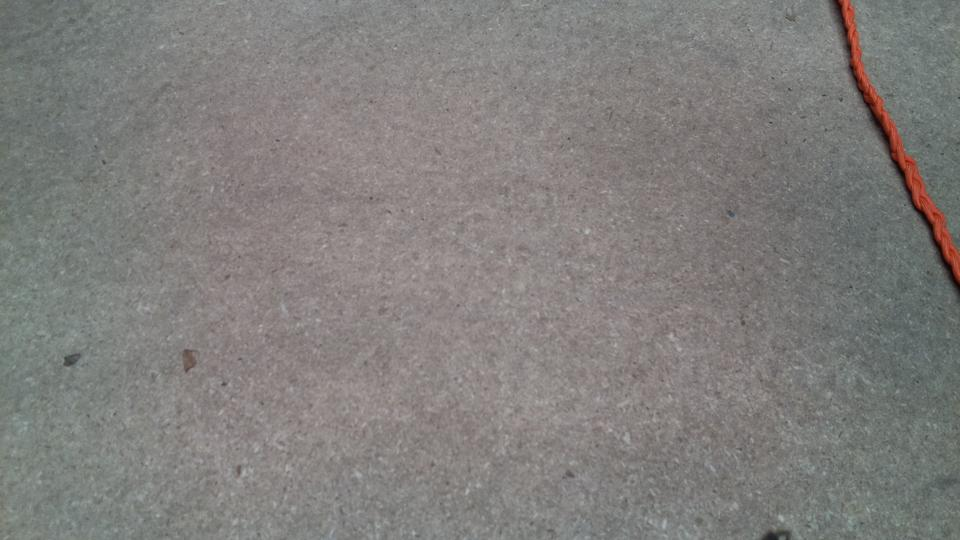rope: (831, 1, 960, 283)
